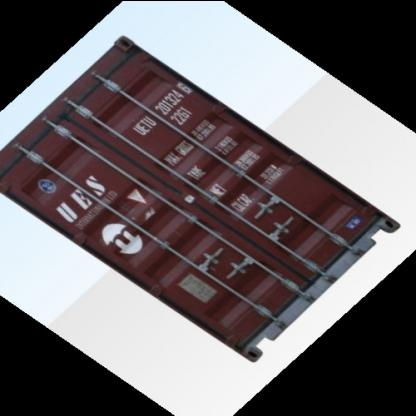Damage: (108, 194, 158, 224), (101, 44, 139, 80)
